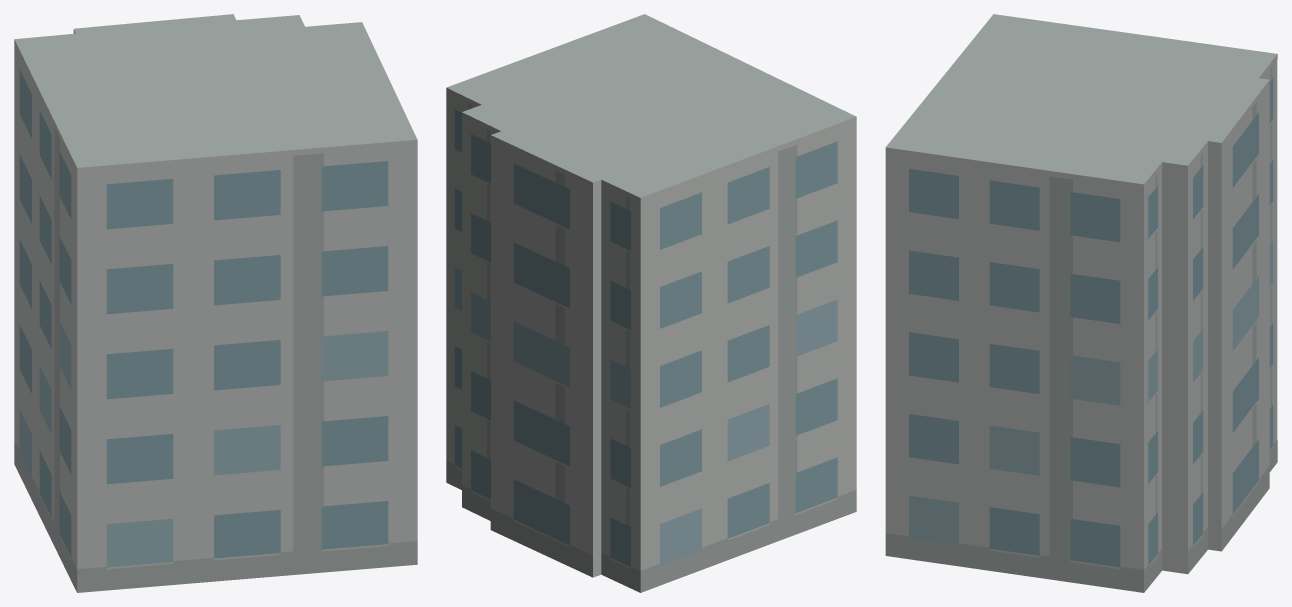
File: survey-upis-33035730.glb
3 renders of one model, left to right at view 1: azimuth 30°, elevation 25°; view 2: azimuth 150°, elevation 25°; view 3: azimuth 270°, elevation 25°, orthographic. The views are drawn at different scales.
Parts seen in each view (by area): view 1: survey-upis-33035730.tmp; view 2: survey-upis-33035730.tmp; view 3: survey-upis-33035730.tmp.
Part boxes in pixels (x1,y1,x2,y2): survey-upis-33035730.tmp: (14,14,417,592); survey-upis-33035730.tmp: (446,14,856,592); survey-upis-33035730.tmp: (885,14,1277,592).
Size of the model in its own units: 16.02 by 17.9 by 15.57.
